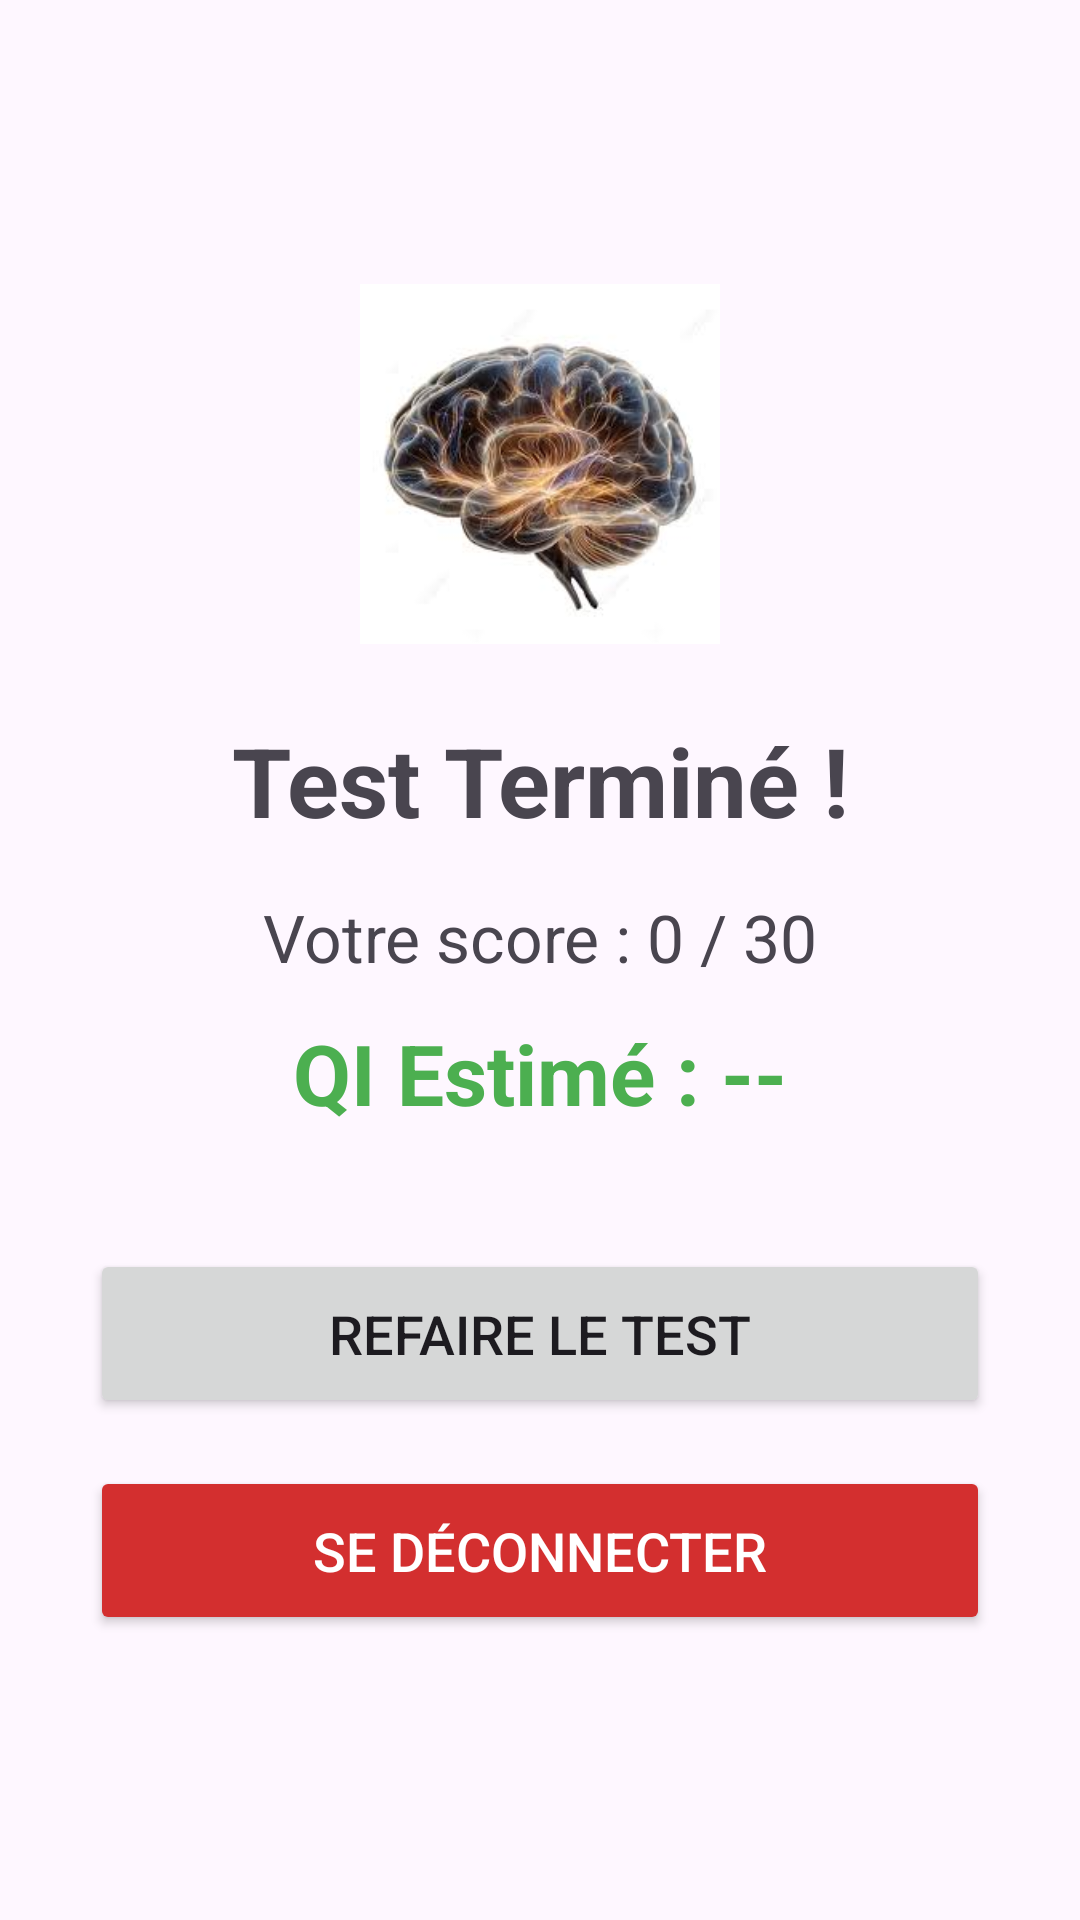

Icons on this 1080 × 1920 Android screen, each with its box as {"left": x1, "top": y1, "right": x2, "bottom": y2}:
brain: {"left": 384, "top": 343, "right": 696, "bottom": 611}
